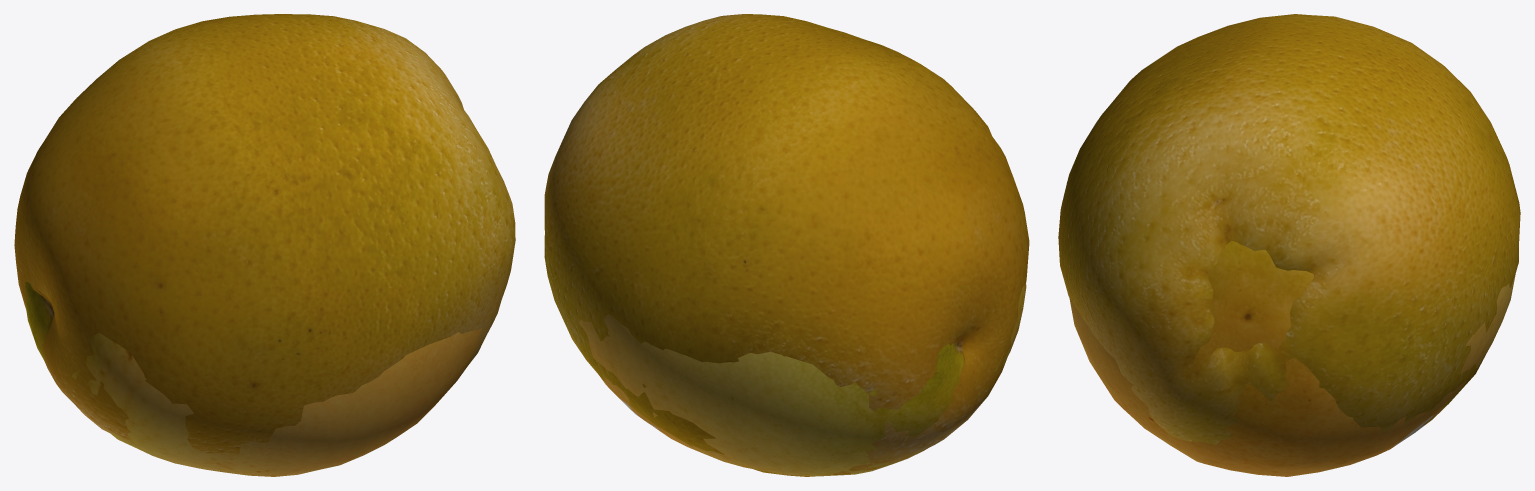
File: kiri_orange.gltf
The picture shows the model from 3 angles, left to right: view 1: azimuth 30°, elevation 25°; view 2: azimuth 150°, elevation 25°; view 3: azimuth 270°, elevation 25°; orthographic projection.
Visible parts, largest first — view 1: A49_Orange, A25_Orange; view 2: A49_Orange, A25_Orange; view 3: A49_Orange, A25_Orange.
Boxes of the visible parts, x1,y1,x2,y2 form: A49_Orange: [14, 14, 515, 454]; A25_Orange: [25, 237, 482, 476]; A49_Orange: [544, 14, 1029, 476]; A25_Orange: [579, 283, 1026, 476]; A49_Orange: [1058, 14, 1520, 444]; A25_Orange: [1069, 240, 1515, 476].
Bounding box in the file's own units: 0.0772 × 0.0726 × 0.0734.
2 materials, 2 textured.
